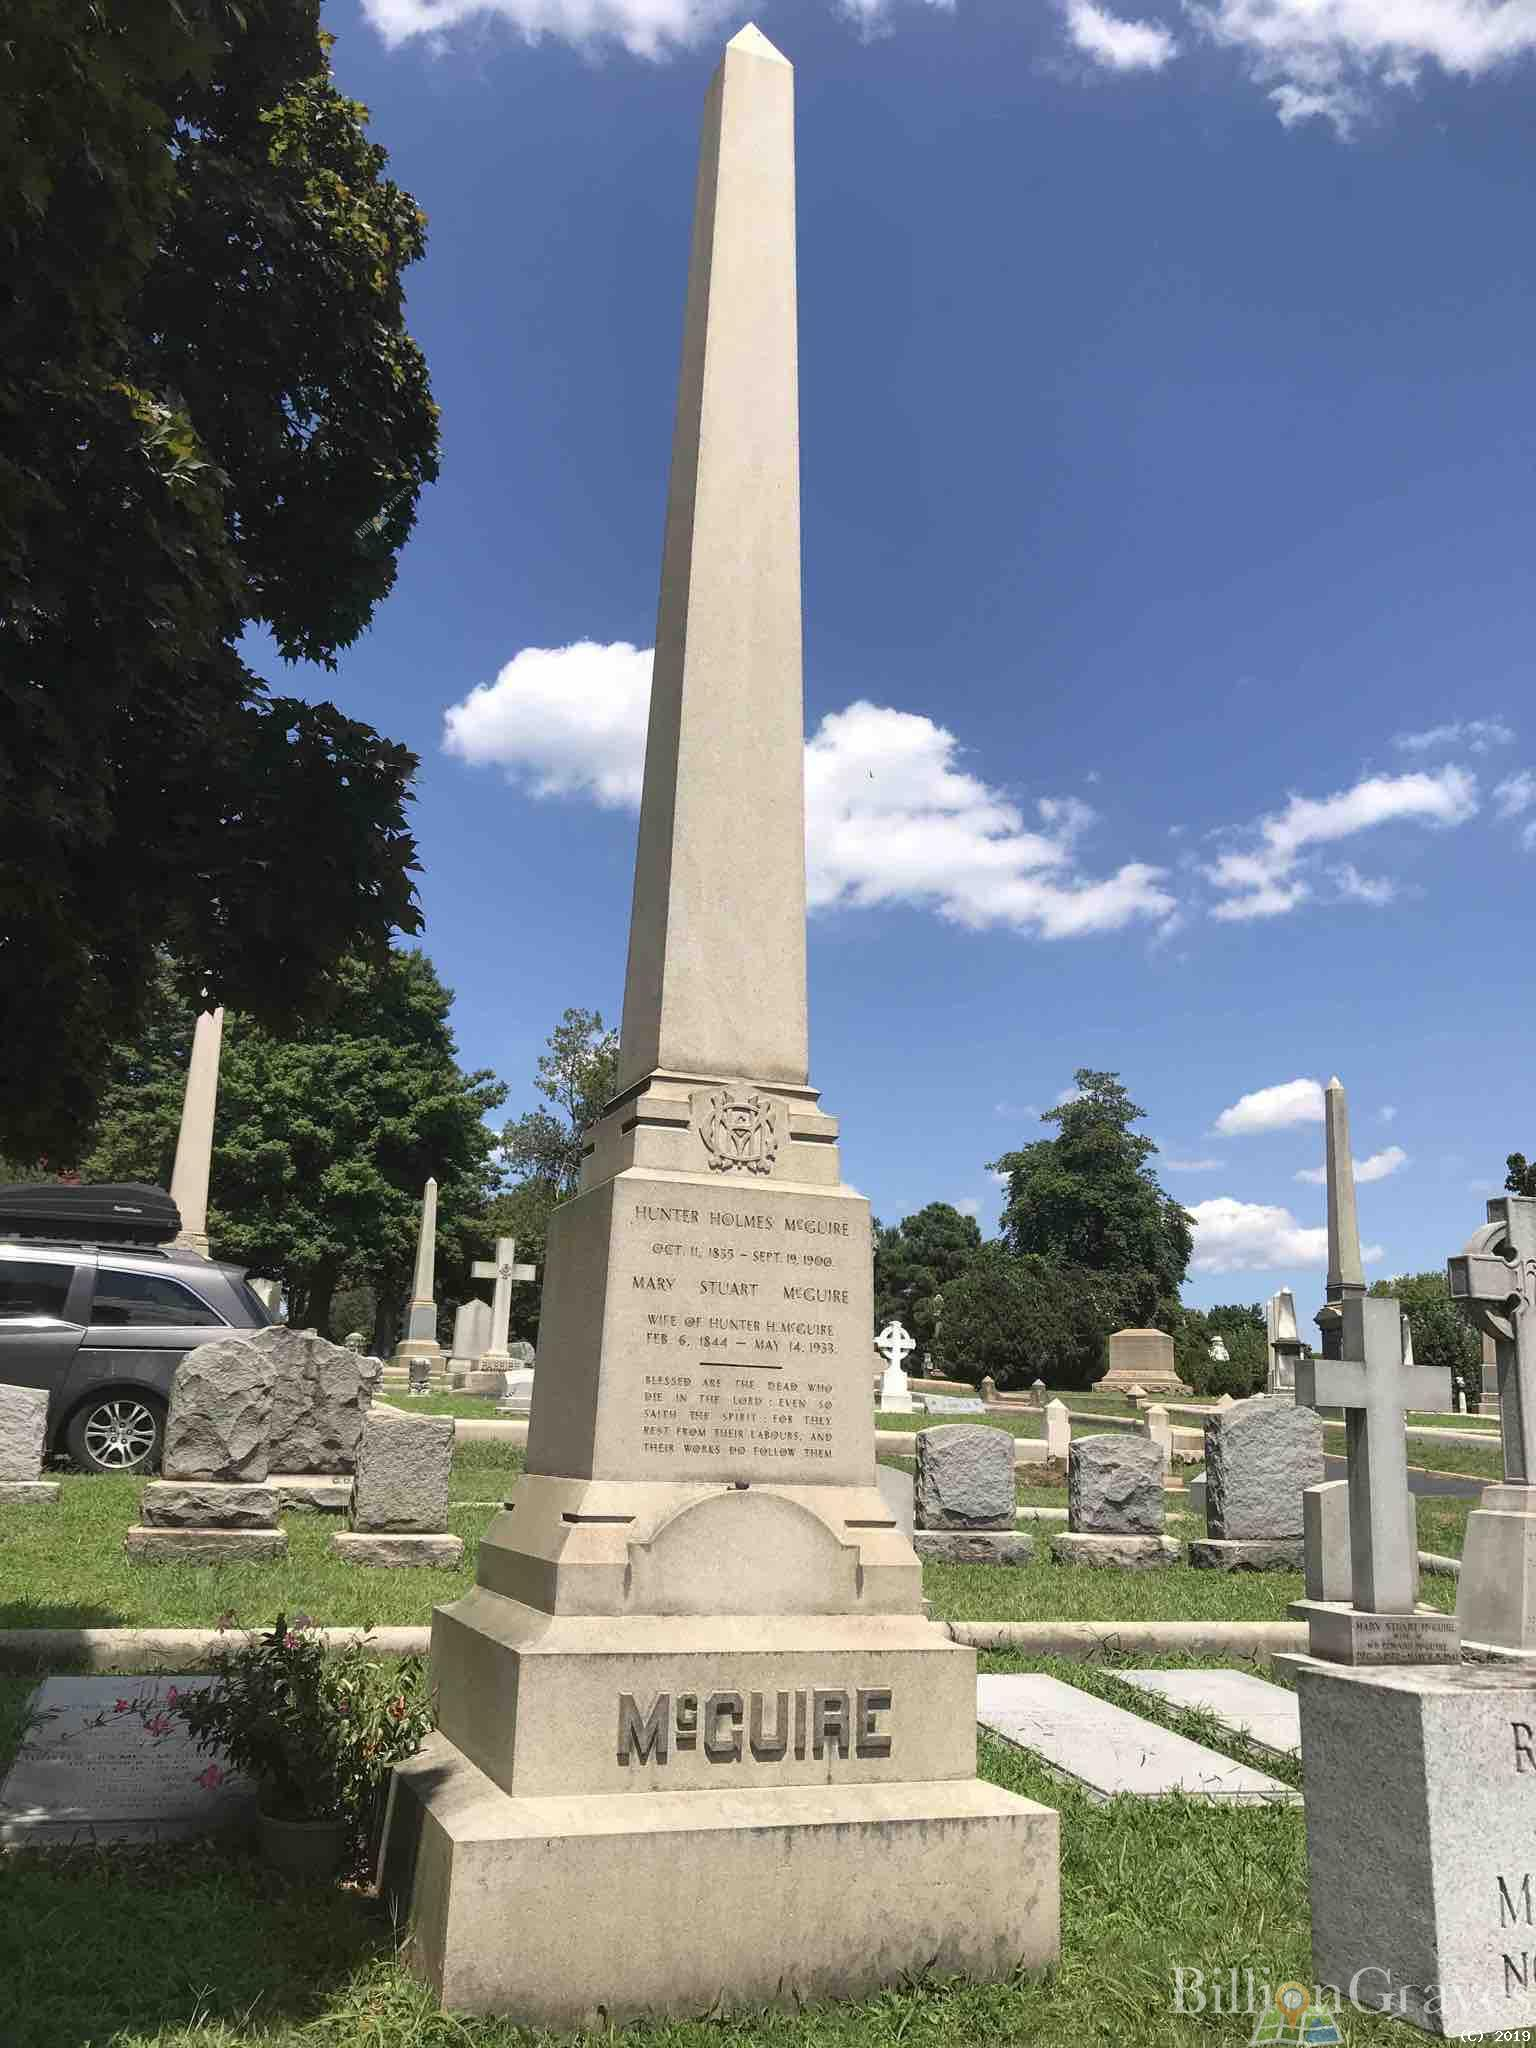obelisk: (479, 23, 971, 1784)
